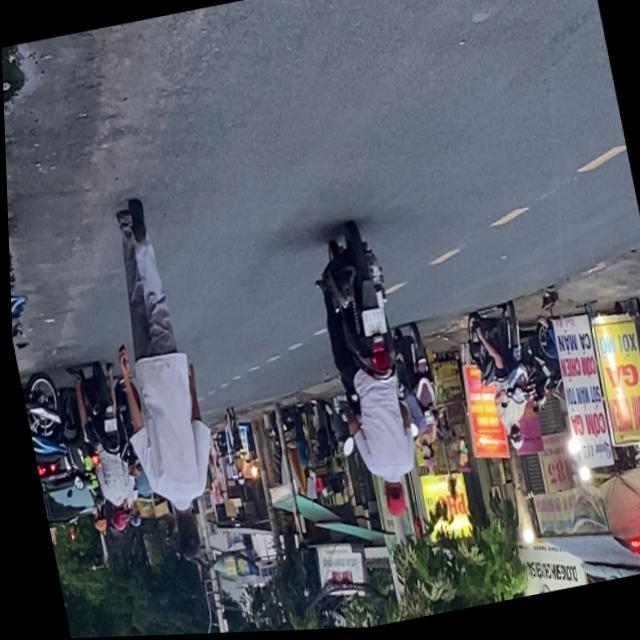helmet: (105, 503, 127, 534), (503, 427, 522, 455)
licenseplate: (301, 219, 430, 532), (458, 301, 542, 462), (66, 358, 141, 538), (386, 322, 449, 475)
motorcyclist: (376, 480, 406, 522)
nohelmet: (358, 310, 385, 339), (99, 418, 114, 433)
